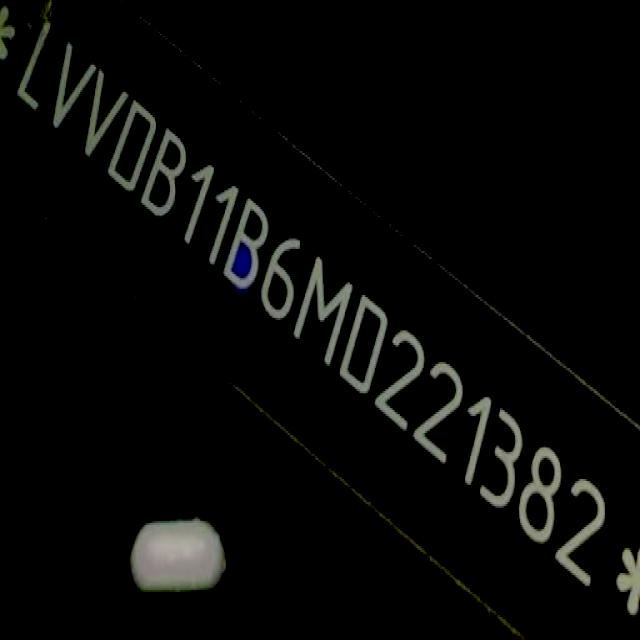1: (451, 382, 501, 494), (171, 152, 220, 249), (200, 173, 248, 271)
2: (408, 347, 473, 473), (555, 470, 615, 598), (370, 315, 432, 429)
3: (473, 403, 534, 524)
6: (253, 222, 312, 330)
8: (511, 434, 574, 559)
B: (220, 188, 278, 305), (135, 121, 194, 230)
D: (336, 285, 395, 402), (102, 92, 164, 200)
L: (12, 15, 61, 119)
M: (288, 251, 359, 373)
V: (39, 31, 100, 148), (73, 63, 131, 171)
